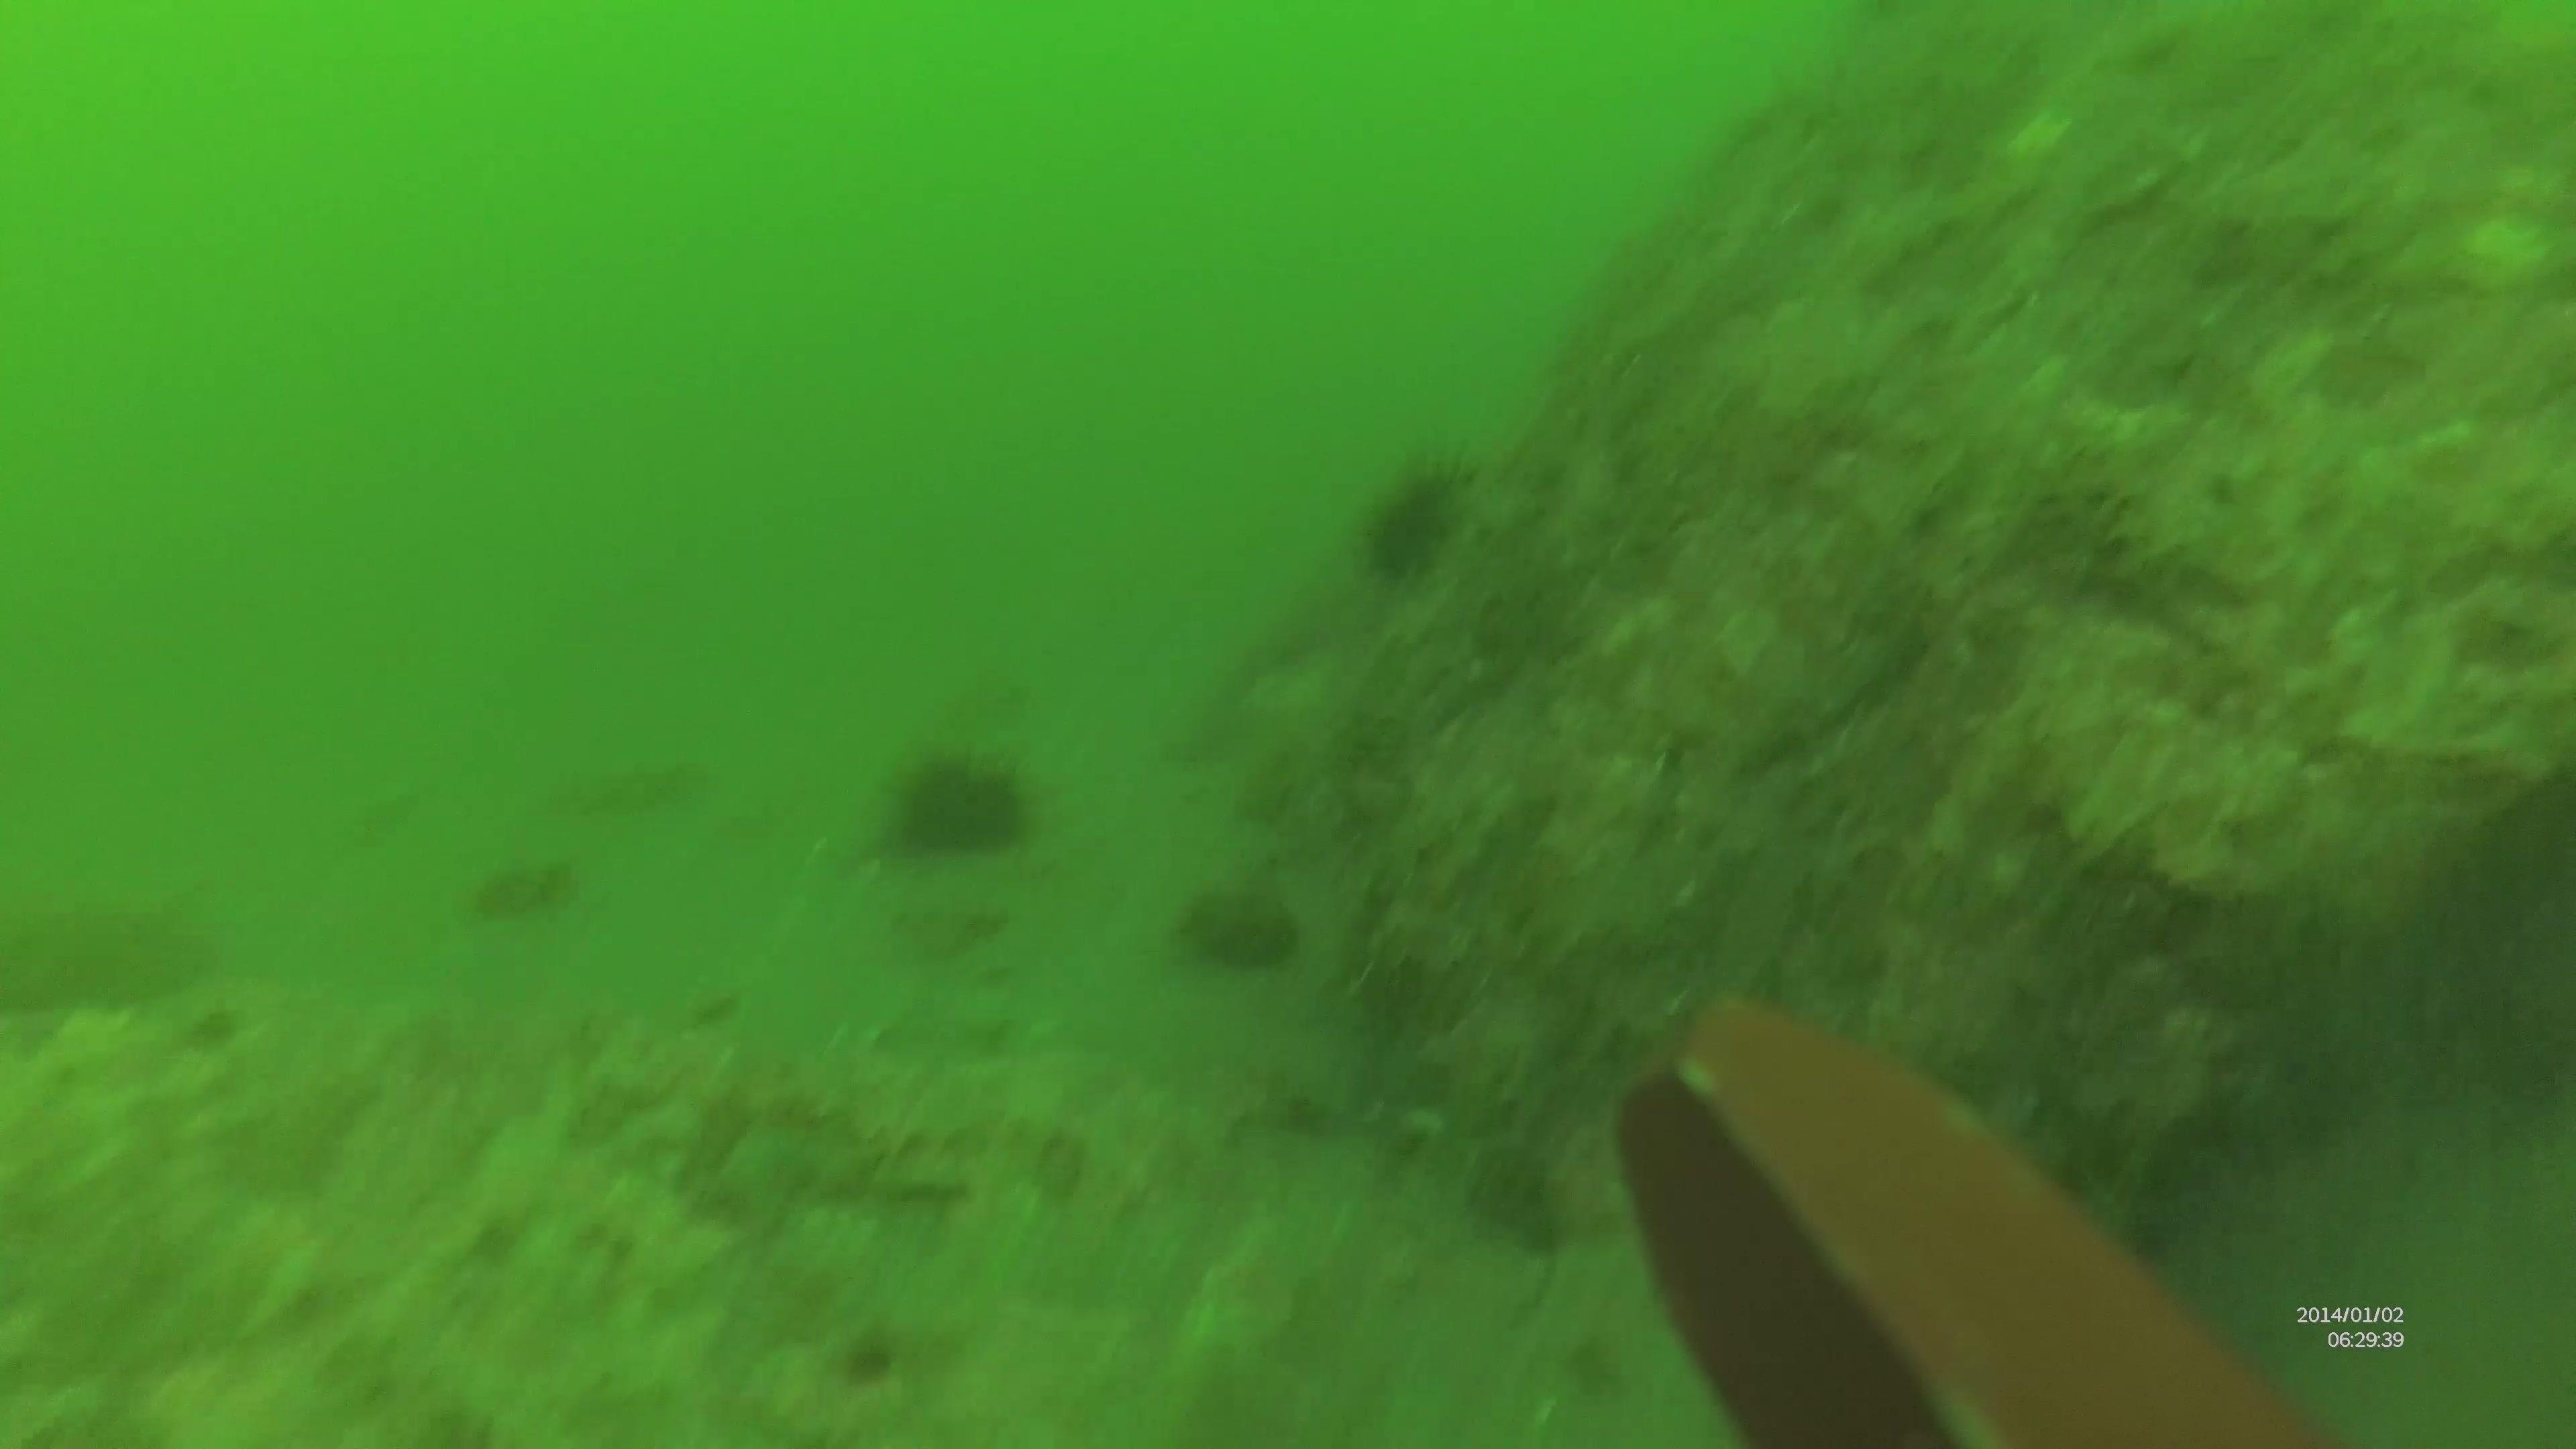echinus: (886, 741, 1033, 853), (1369, 444, 1484, 586), (1182, 885, 1297, 975)
holothurian: (5, 892, 221, 1017), (472, 858, 596, 931)
